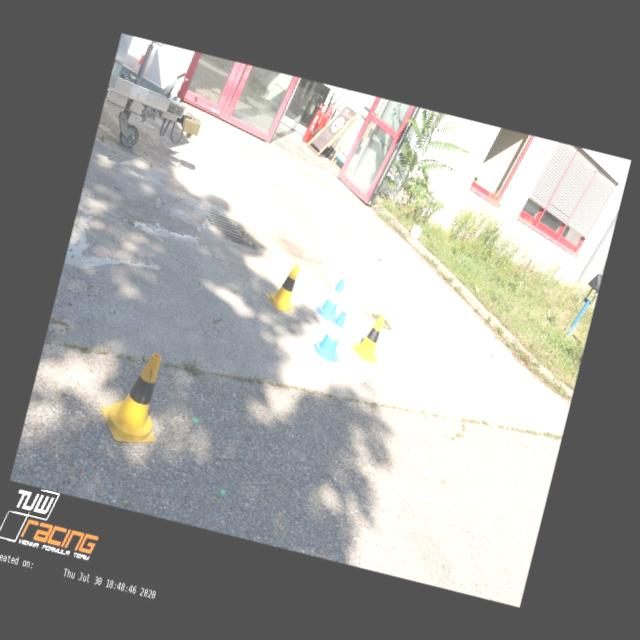blue_cone: (307, 306, 352, 366), (310, 272, 348, 324)
yellow_cone: (94, 342, 175, 450), (262, 258, 306, 314), (348, 310, 388, 364)
